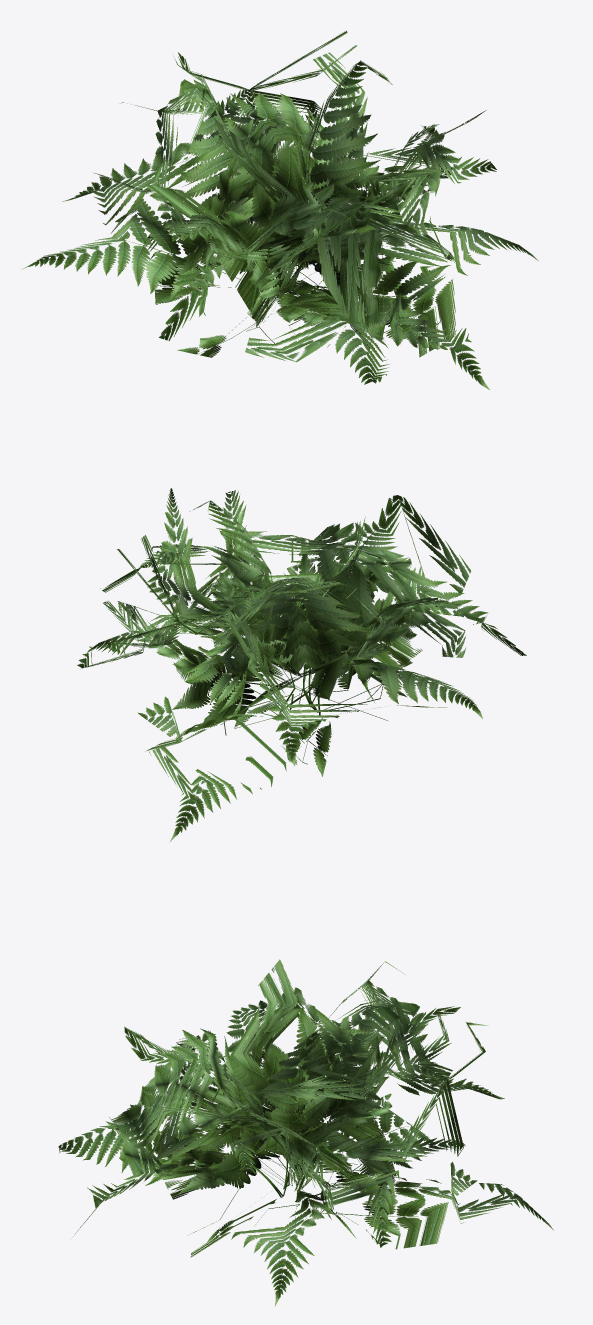
Rendered from kapradi_5.glb.
3 renders of one model, top to bottom at view 1: azimuth 30°, elevation 25°; view 2: azimuth 150°, elevation 25°; view 3: azimuth 270°, elevation 25°, orthographic. The views are drawn at different scales.
Parts seen in each view (by area): view 1: SM_MZRa_Fern_B053_MI_MZRa_Fern_B053_0; view 2: SM_MZRa_Fern_B053_MI_MZRa_Fern_B053_0; view 3: SM_MZRa_Fern_B053_MI_MZRa_Fern_B053_0.
Part boxes in pixels (x1,y1,x2,y2): SM_MZRa_Fern_B053_MI_MZRa_Fern_B053_0: (21, 30, 538, 389); SM_MZRa_Fern_B053_MI_MZRa_Fern_B053_0: (77, 488, 526, 841); SM_MZRa_Fern_B053_MI_MZRa_Fern_B053_0: (58, 959, 553, 1306).
Bounding box in the file's own units: 2.69 × 1.56 × 2.64.
Materials: 1 (1 with a texture image).
